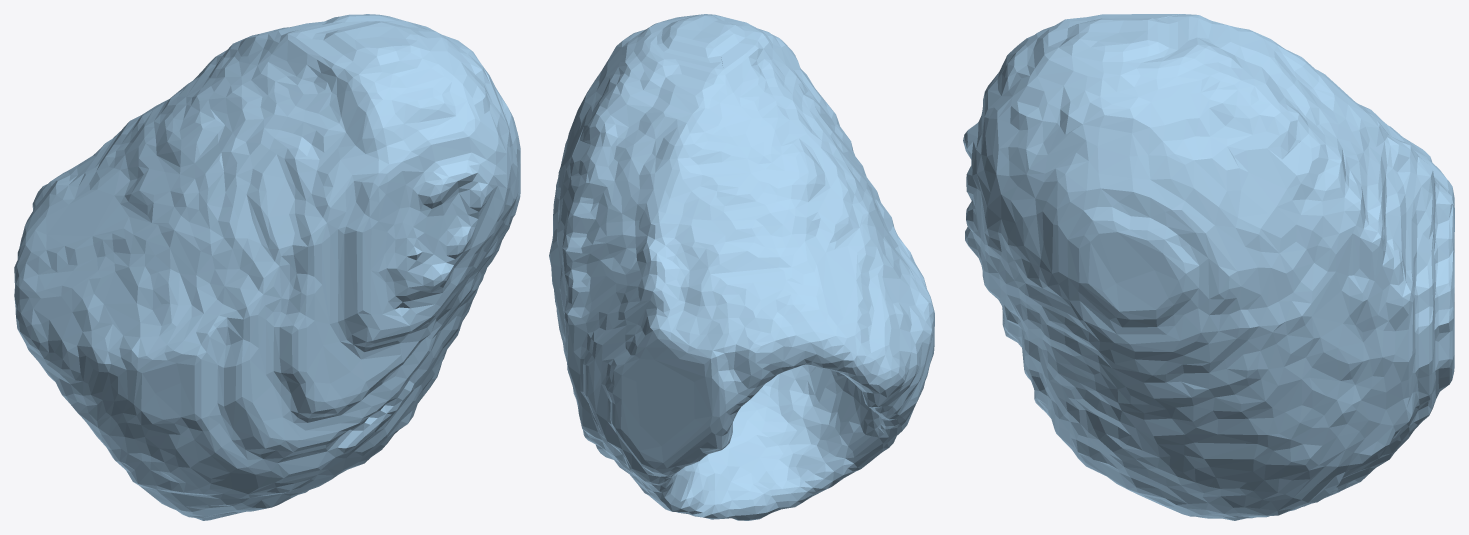
The picture shows the model from 3 angles, left to right: view 1: azimuth 30°, elevation 25°; view 2: azimuth 150°, elevation 25°; view 3: azimuth 270°, elevation 25°; orthographic projection. The views are drawn at different scales.
Parts seen in each view (by area): view 1: world; view 2: world; view 3: world.
Part boxes in pixels (x1,y1,x2,y2): world: (14, 14, 520, 520); world: (549, 14, 934, 520); world: (963, 14, 1454, 520).
Bounding box in the file's own units: 0.8155 × 0.9099 × 0.7679.
